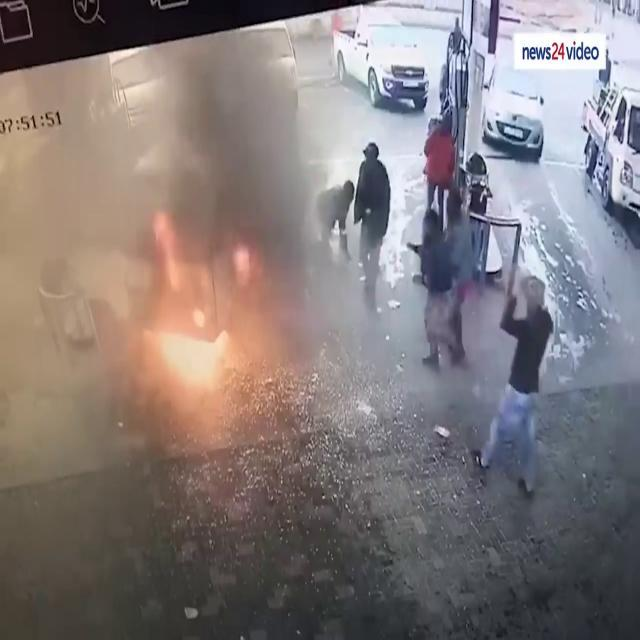Fire: (142, 224, 238, 404)
Smoke: (97, 33, 345, 271)
